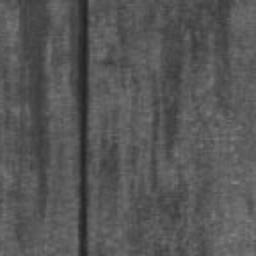Scratches: (76, 0, 89, 256)
